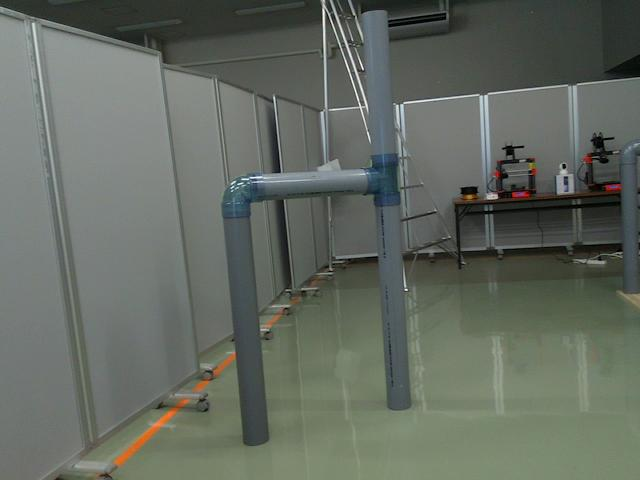bent: (221, 172, 266, 219)
junction: (358, 152, 399, 211)
